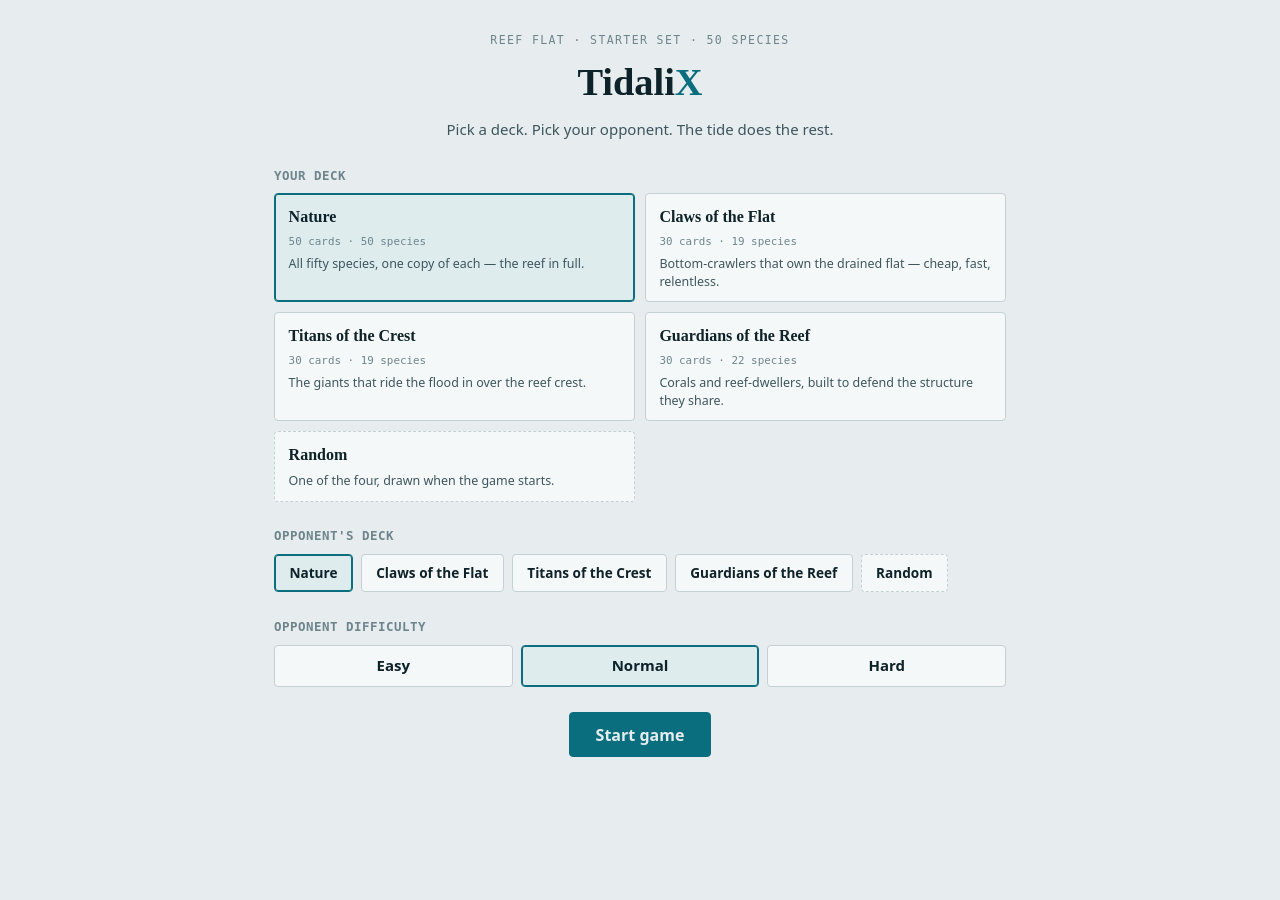
it: client › says which opponent you are facing in the log, from the first line
(page scrolled)
Click the button with class "setup__start".
click(640, 735)  # box [569,712,711,757]
(page scrolled)
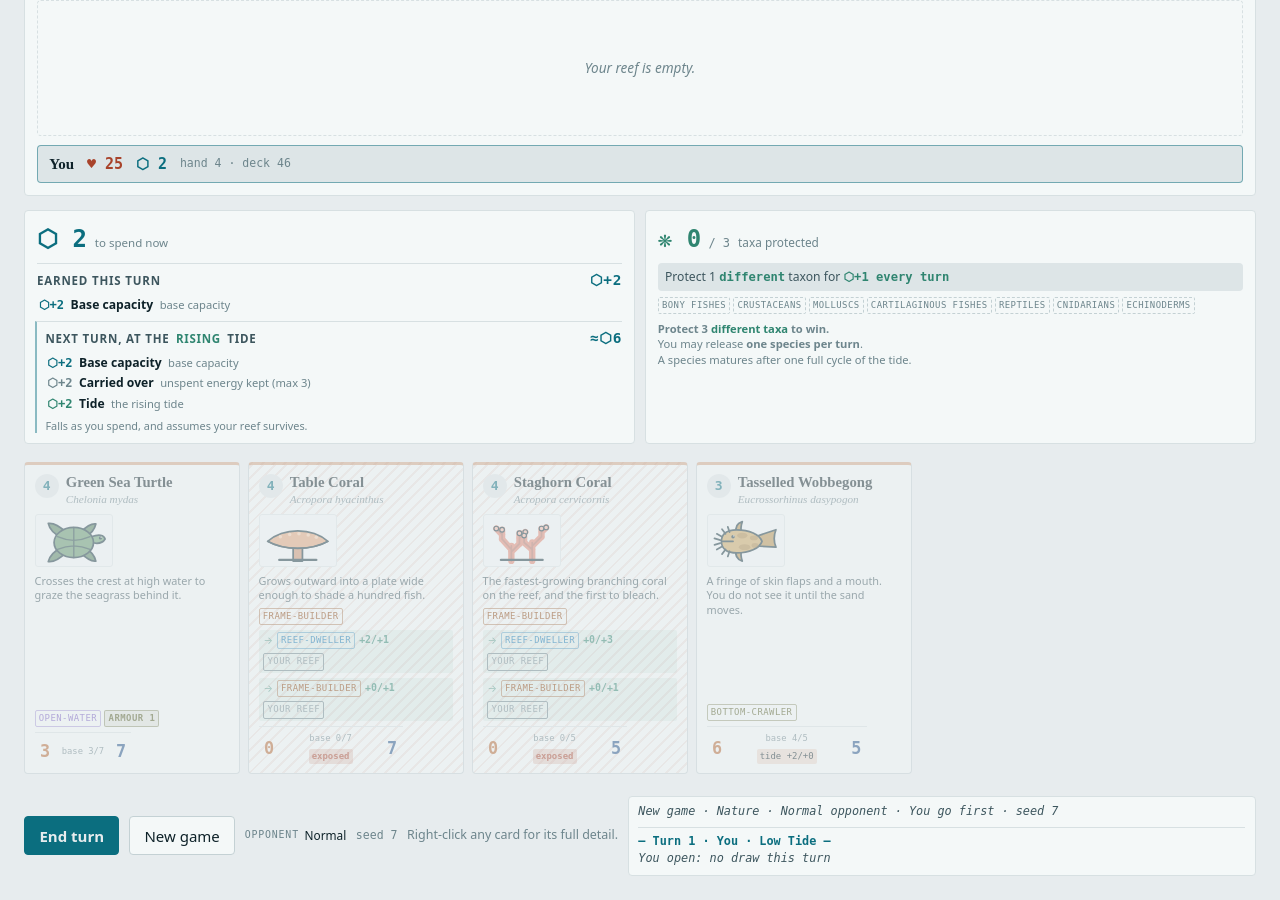
Result: the list item with class "log__line" shows "Normal opponent" at [638,804,1058,818]
Result: the list item with class "log__line" shows "seed 7" at [638,804,1058,818]
